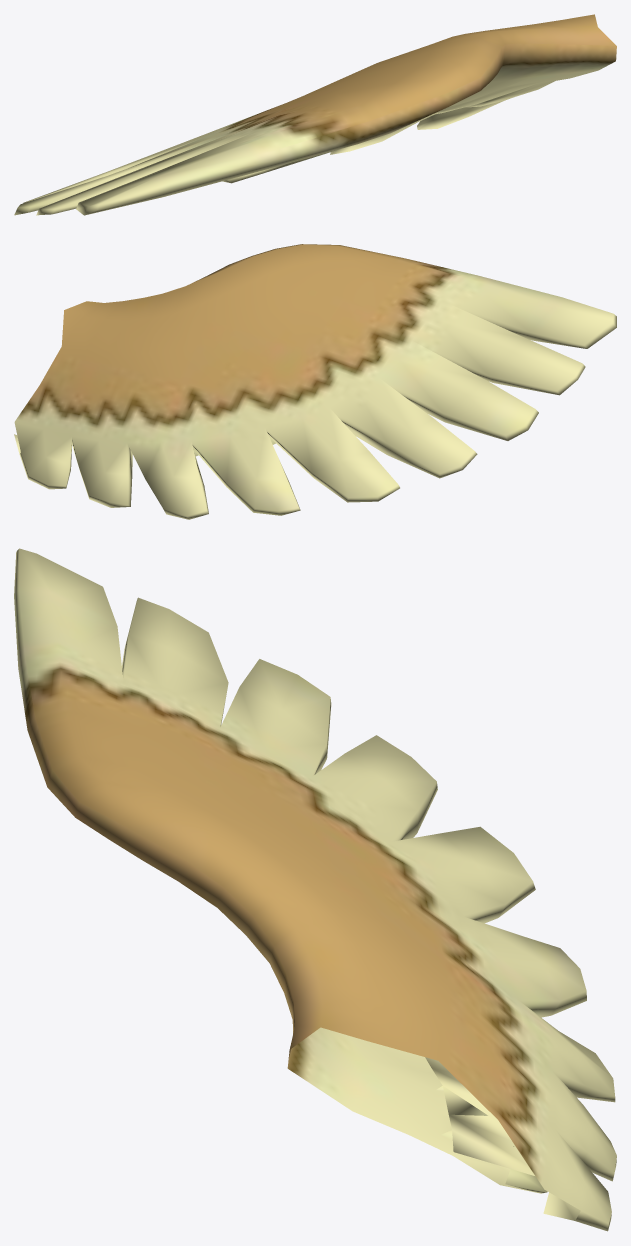
File: pidgey_ala_der.obj
The picture shows the model from 3 angles, top to bottom: view 1: azimuth 30°, elevation 25°; view 2: azimuth 150°, elevation 25°; view 3: azimuth 270°, elevation 25°; orthographic projection. The views are drawn at different scales.
Bounding box in the file's own units: 0.7762 × 0.2816 × 0.463.
Materials: 1 (1 with a texture image).
